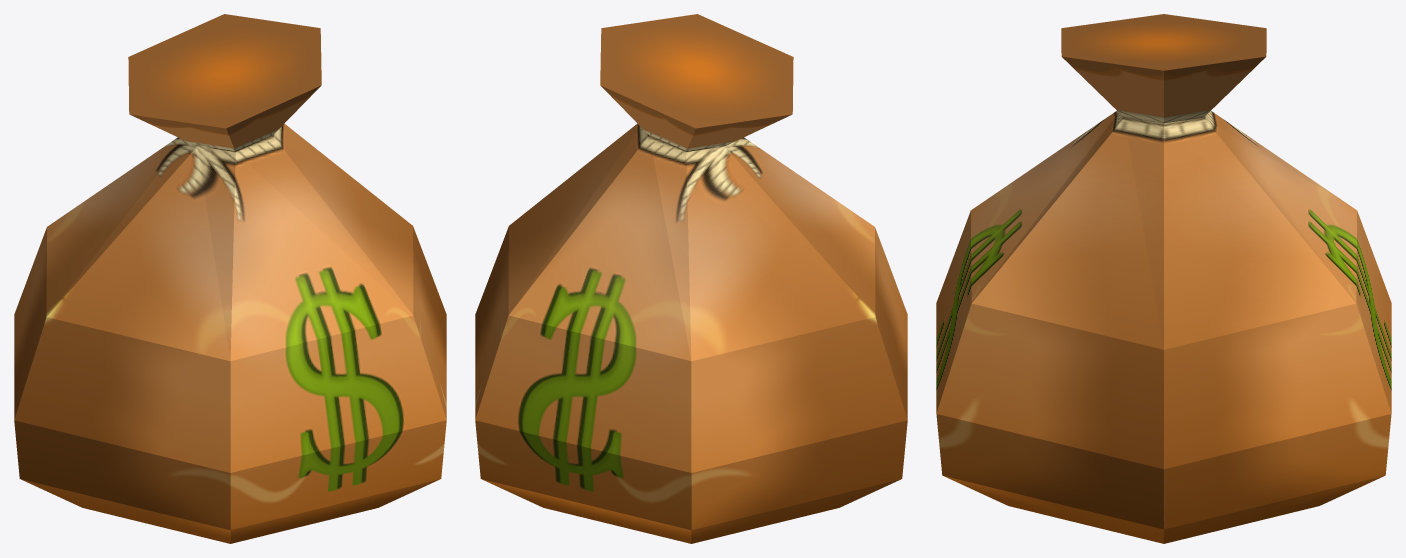
The model's file is bagOfMoney.fbx.
3 renders of one model, left to right at view 1: azimuth 30°, elevation 25°; view 2: azimuth 150°, elevation 25°; view 3: azimuth 270°, elevation 25°, orthographic. The views are drawn at different scales.
Parts seen in each view (by area): view 1: bag; view 2: bag; view 3: bag.
Part boxes in pixels (x1,y1,x2,y2): bag: (14,14,446,543); bag: (475,14,907,543); bag: (936,14,1391,543).
Bounding box in the file's own units: 69.74 × 66.65 × 60.4.
